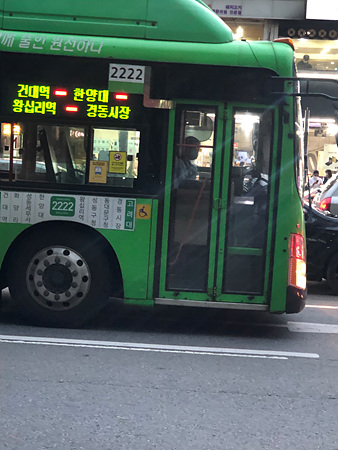entrance: (165, 99, 274, 311)
